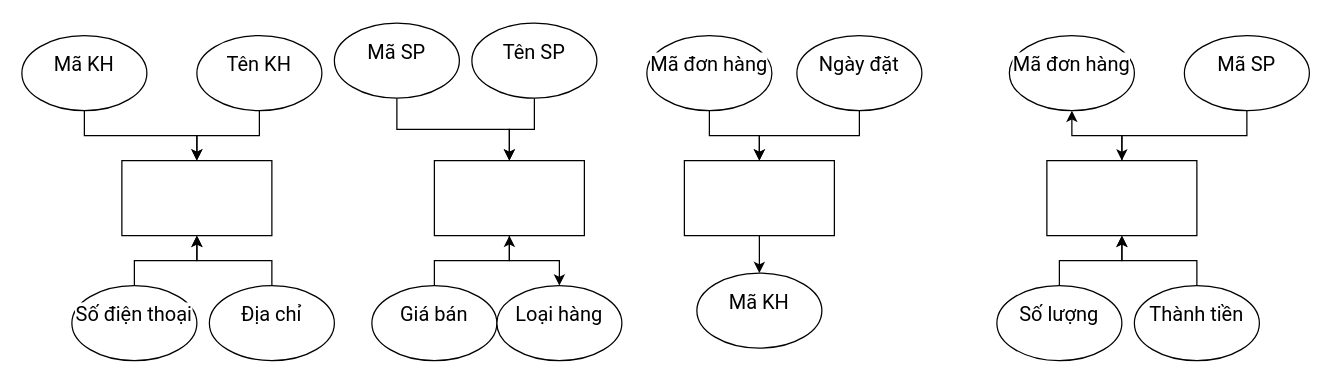
Image size: 1331x383. Some labels were removed from this diagram. Here are the shapes that lost their labels. From the top down, the centre of each, then its label:
At (196,197): "Customer".
At (508,197): "Product".
At (758,197): "Order".
At (1121,197): "OrderDetail".
